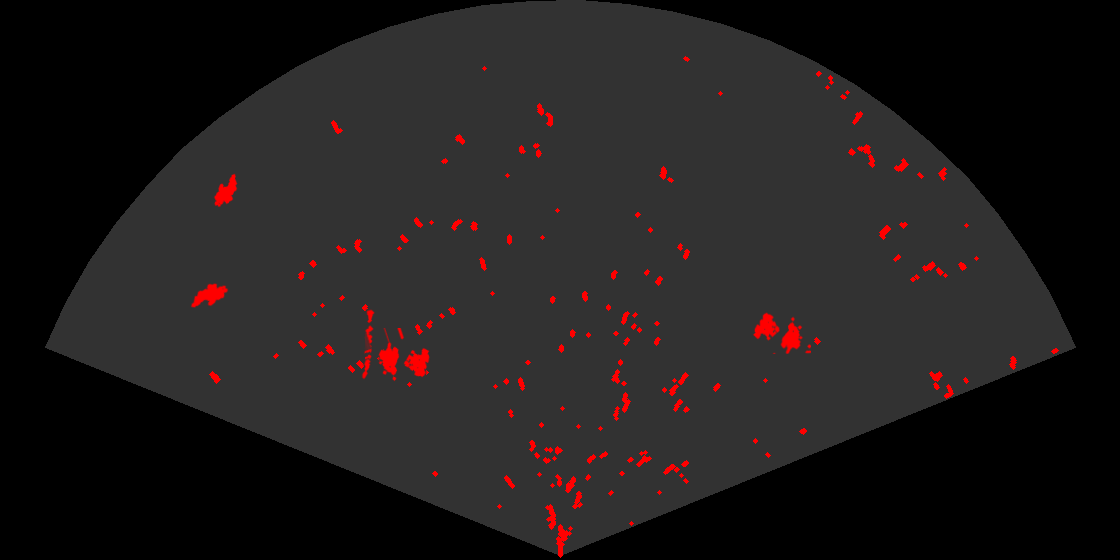AUV: (189, 282, 230, 309), (212, 172, 239, 209)
cage: (365, 328, 431, 383), (751, 311, 811, 354)
chain: (360, 309, 376, 380)
